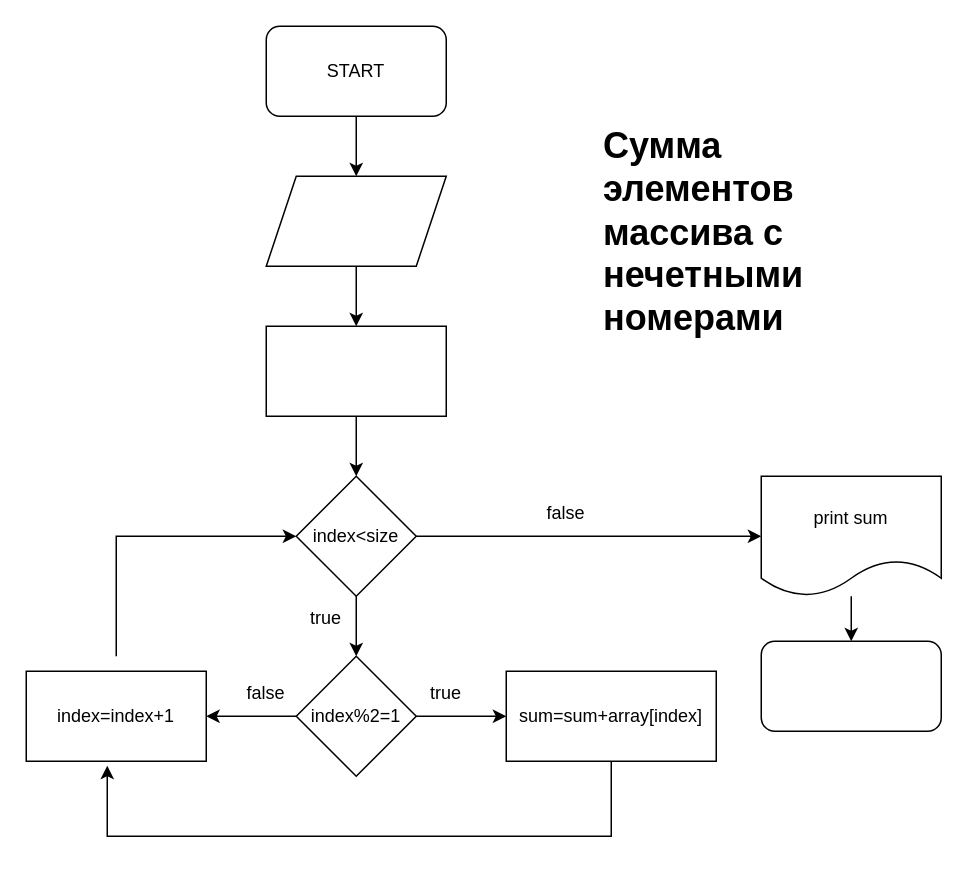
Image size: 968x875. Some labels were removed from this diagram. Each missing label, with the box of its shape:
array[size]: (265, 175, 446, 266)
FINISH: (760, 640, 941, 731)
sum=0 index=0: (265, 325, 446, 416)
